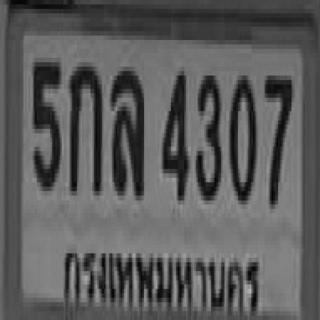A01: (69, 60, 100, 189)
A36: (109, 67, 142, 191)
N00: (228, 71, 255, 200)
N03: (194, 71, 220, 195)
N04: (161, 66, 188, 196)
N05: (32, 58, 59, 187)
N07: (263, 71, 292, 204)
P04: (57, 231, 260, 320)
